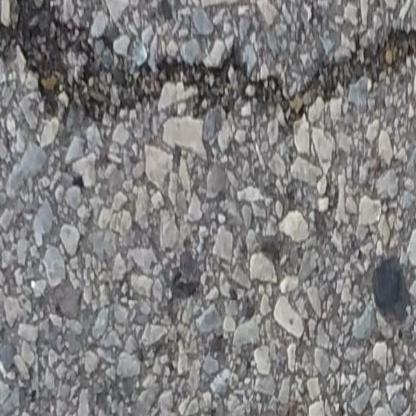Cracks: (0, 0, 416, 121)
